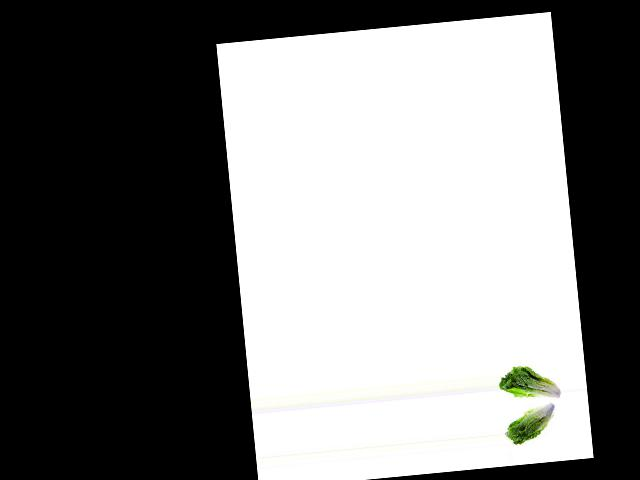lettuce: (503, 401, 564, 446)
